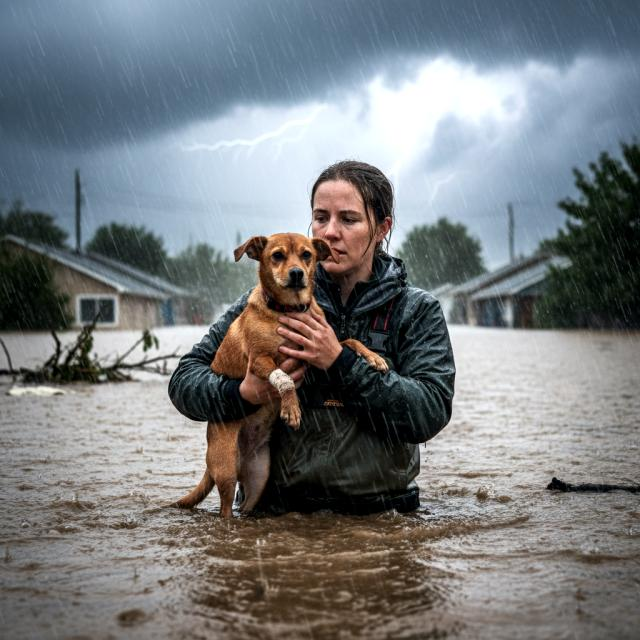civilian: (168, 145, 458, 525)
dog: (184, 217, 386, 512)
